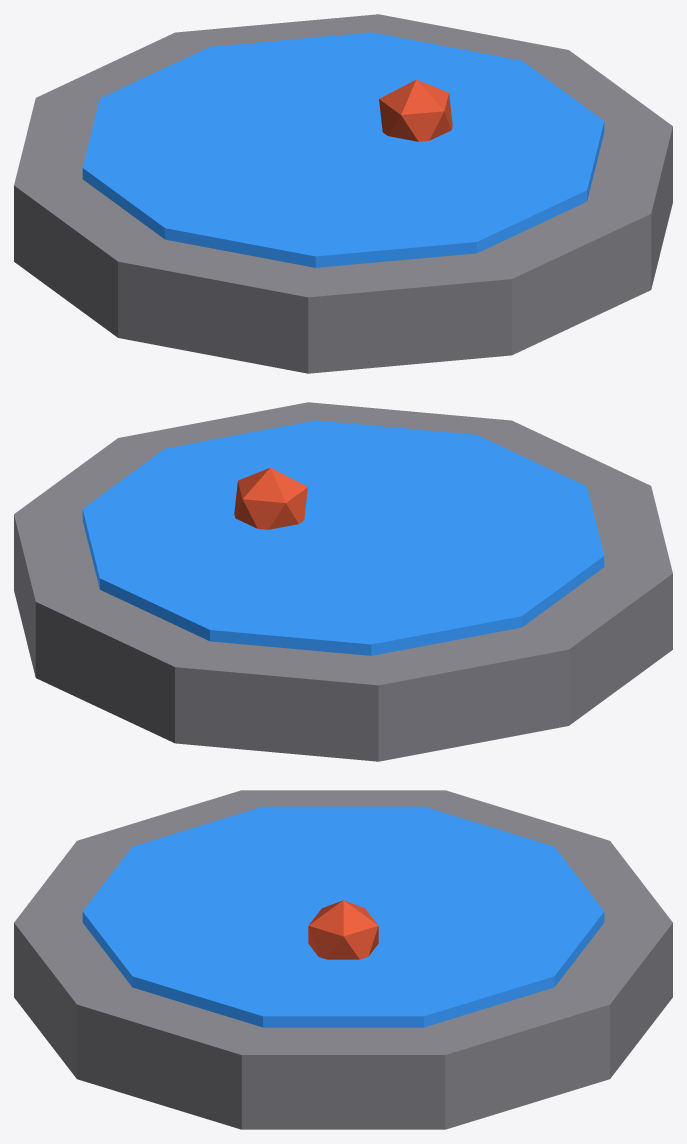
File: tide_pool.glb
3 renders of one model, top to bottom at view 1: azimuth 30°, elevation 25°; view 2: azimuth 150°, elevation 25°; view 3: azimuth 270°, elevation 25°, orthographic. The views are drawn at different scales.
Parts seen in each view (by area): view 1: tide_pool; view 2: tide_pool; view 3: tide_pool.
Boxes of the visible parts, x1,y1,x2,y2 form: tide_pool: (14, 14, 672, 373); tide_pool: (14, 402, 672, 761); tide_pool: (14, 790, 672, 1129).
Bounding box in the file's own units: 2.28 × 0.53 × 2.4.
